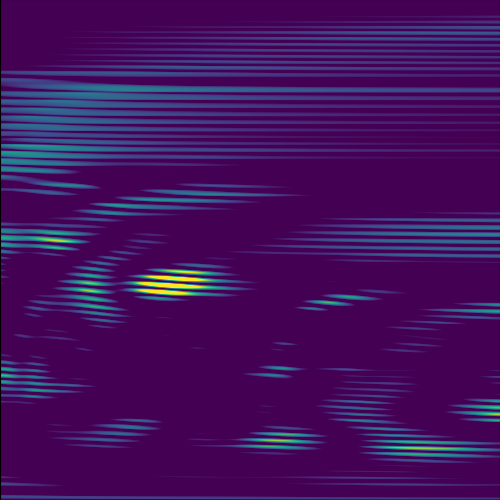semblance: (127, 262, 240, 308)
